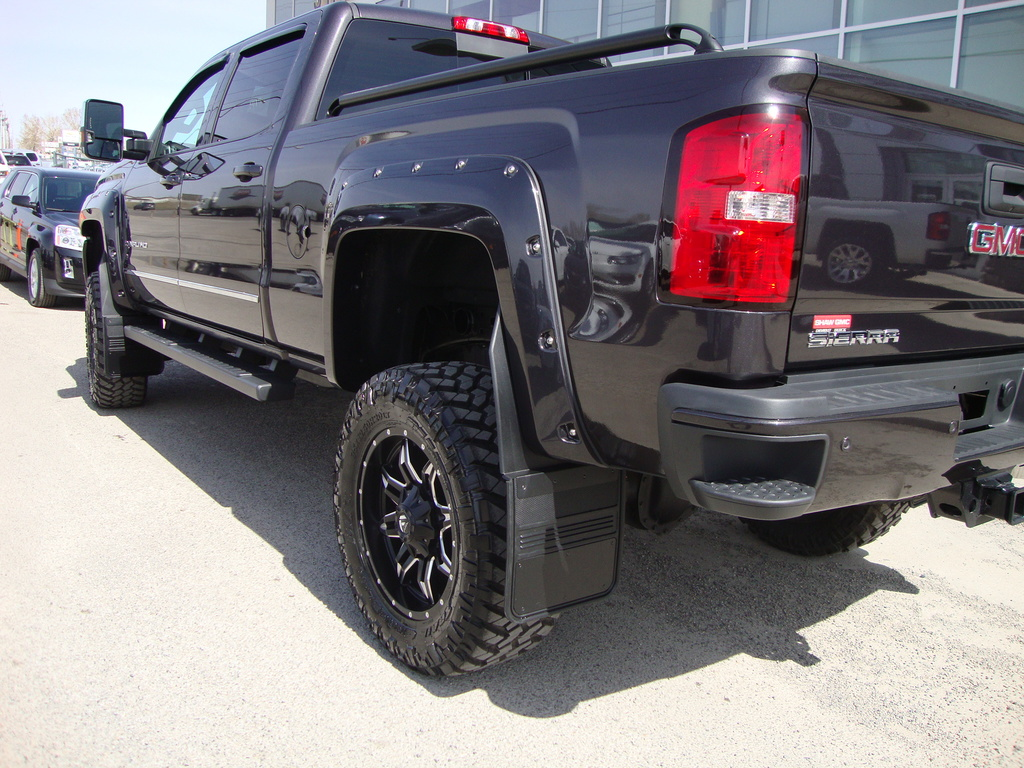mobil: (74, 1, 1019, 694)
